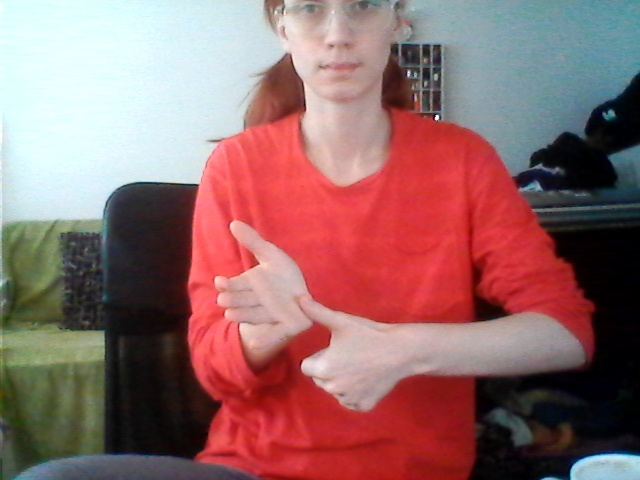pivo: (209, 213, 396, 422)
